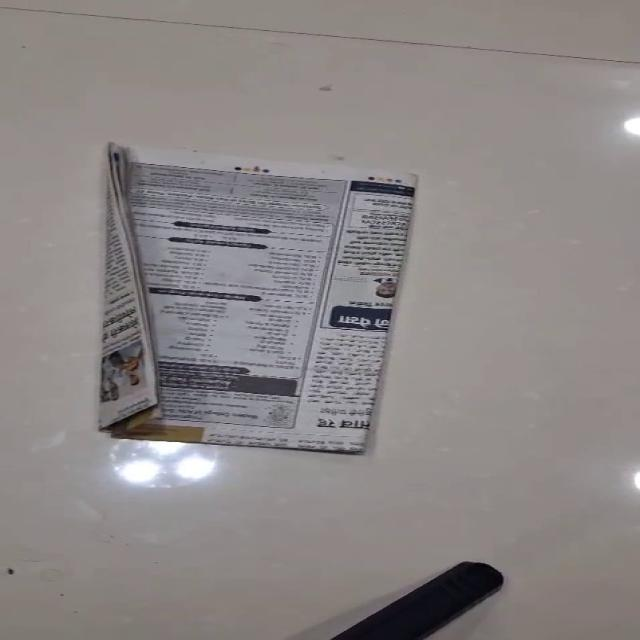paper: (98, 142, 419, 454)
